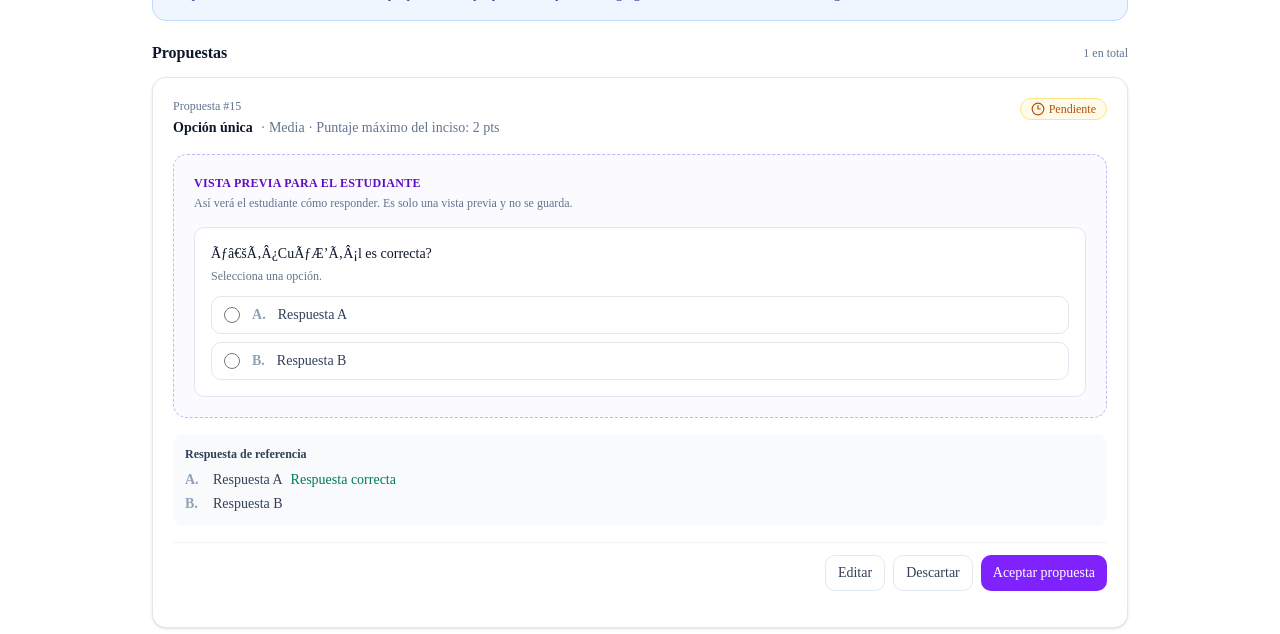
Test: RevisionGeneracionIa › identifica el puntaje de la propuesta como puntaje mÃƒÆ’Ã‚Â¡ximo del inciso
(page scrolled)
Expected: the text "· Media · Puntaje máximo del inciso: 2 pts" is shown, [261,120,500,135]
Click the button "Editar": (855, 573) [825,555,885,591]
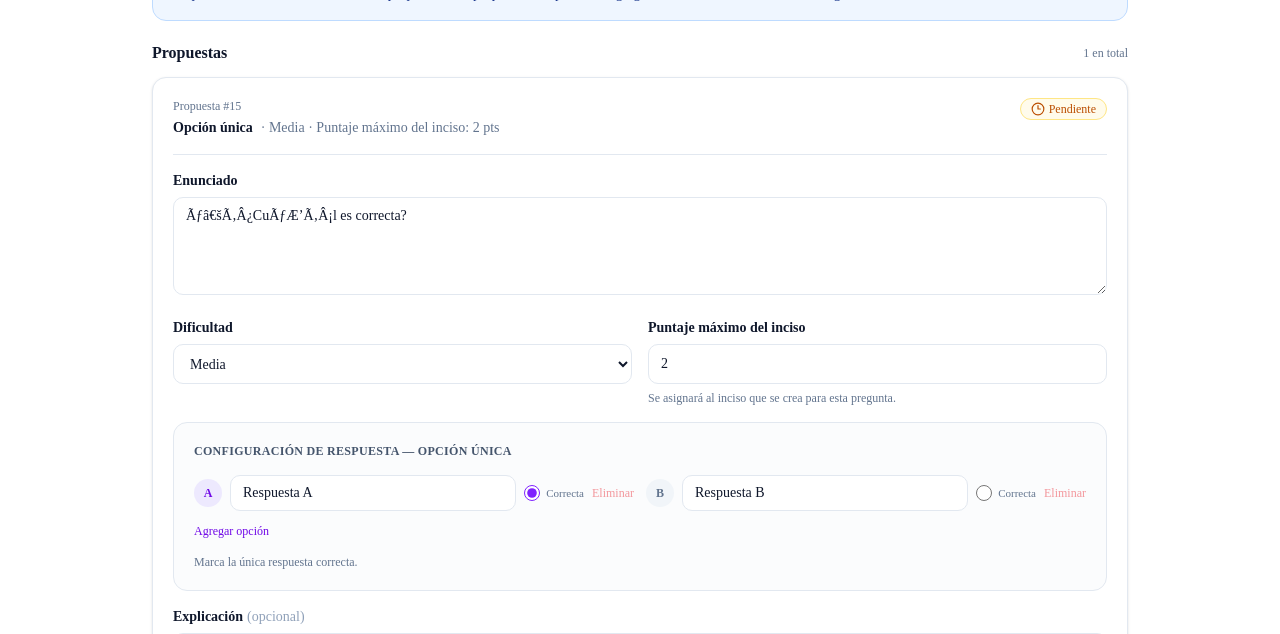
Result: the number field labelled "Puntaje máximo del inciso" is shown at [648,344,1107,384]
Result: the text "Se asignará al inciso que se crea para esta pregunta." is shown at [648,391,896,405]
